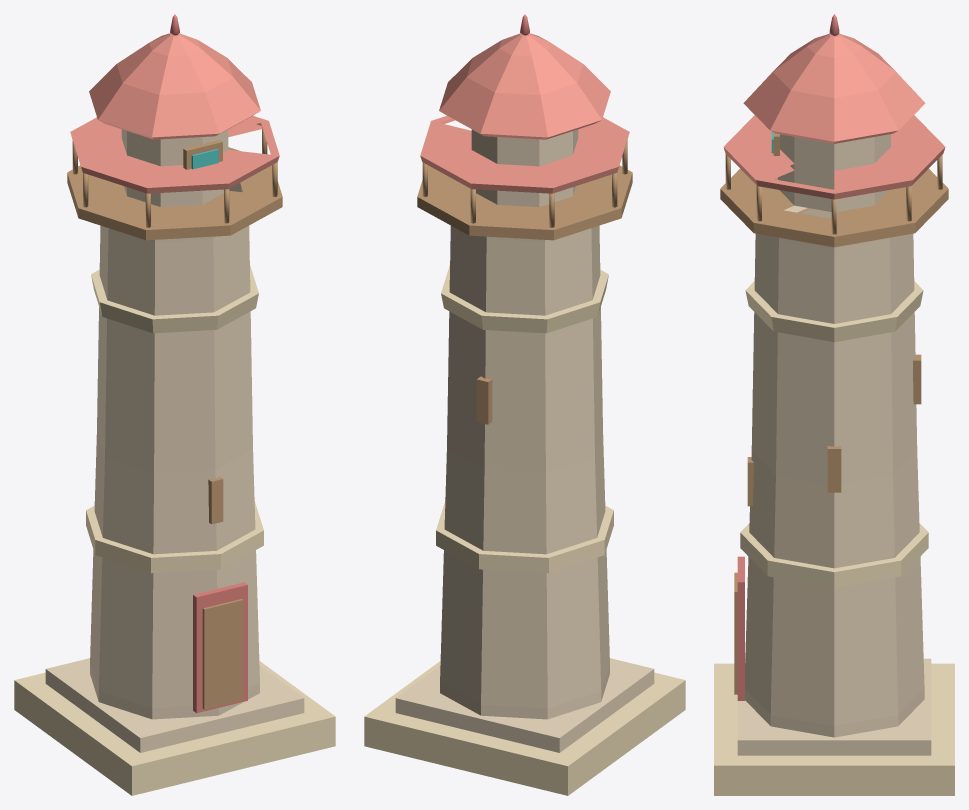
Rendered from watchtower.glb.
3 renders of one model, left to right at view 1: azimuth 30°, elevation 25°; view 2: azimuth 150°, elevation 25°; view 3: azimuth 270°, elevation 25°, orthographic. The views are drawn at different scales.
Visible parts, largest first — view 1: watchtower__Tower_Stone, watchtower__Tower_Sand, watchtower__Tower_Coral, watchtower__Tower_Wood, watchtower__Tower_Trim; view 2: watchtower__Tower_Stone, watchtower__Tower_Sand, watchtower__Tower_Coral, watchtower__Tower_Wood; view 3: watchtower__Tower_Stone, watchtower__Tower_Sand, watchtower__Tower_Coral, watchtower__Tower_Wood, watchtower__Tower_Trim.
Part boxes in pixels (bbox=[...]): watchtower__Tower_Stone: bbox=[45, 129, 304, 752]; watchtower__Tower_Sand: bbox=[14, 265, 335, 795]; watchtower__Tower_Coral: bbox=[70, 33, 279, 193]; watchtower__Tower_Wood: bbox=[67, 127, 282, 709]; watchtower__Tower_Trim: bbox=[170, 14, 247, 713]; watchtower__Tower_Stone: bbox=[395, 129, 654, 752]; watchtower__Tower_Sand: bbox=[364, 265, 685, 795]; watchtower__Tower_Coral: bbox=[420, 33, 629, 193]; watchtower__Tower_Wood: bbox=[417, 140, 632, 424]; watchtower__Tower_Stone: bbox=[737, 134, 931, 755]; watchtower__Tower_Sand: bbox=[714, 281, 954, 795]; watchtower__Tower_Coral: bbox=[723, 33, 945, 199]; watchtower__Tower_Wood: bbox=[720, 133, 948, 694]; watchtower__Tower_Trim: bbox=[737, 14, 839, 700].
Bounding box in the file's own units: 4.6 × 15.4 × 4.6.
